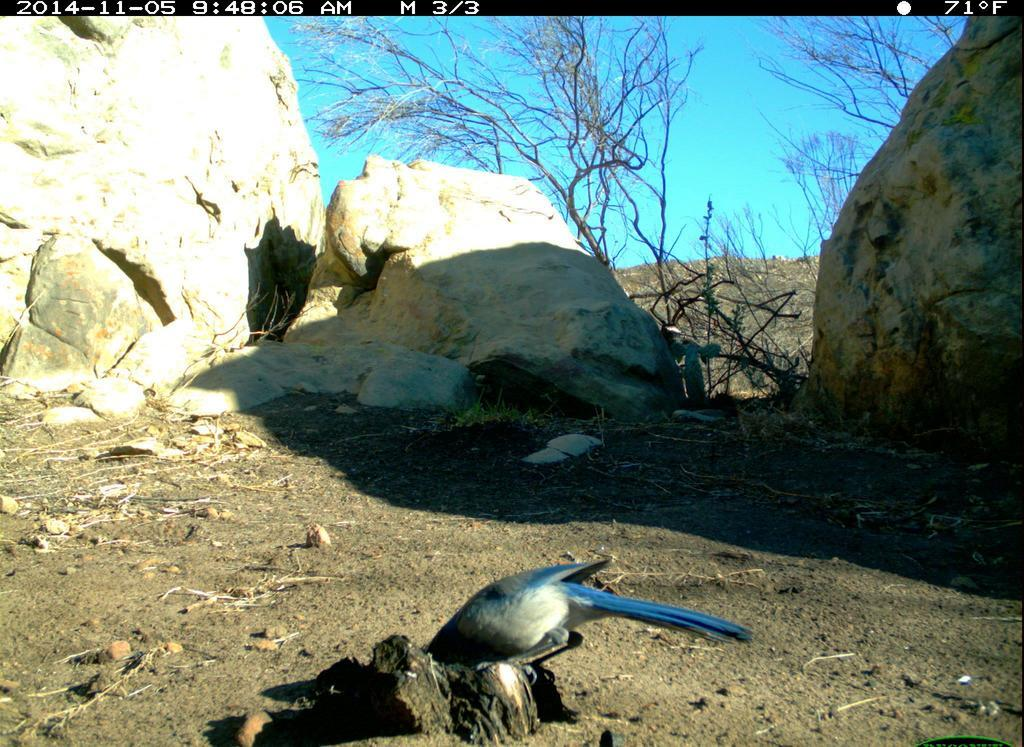bird: (406, 553, 760, 674)
